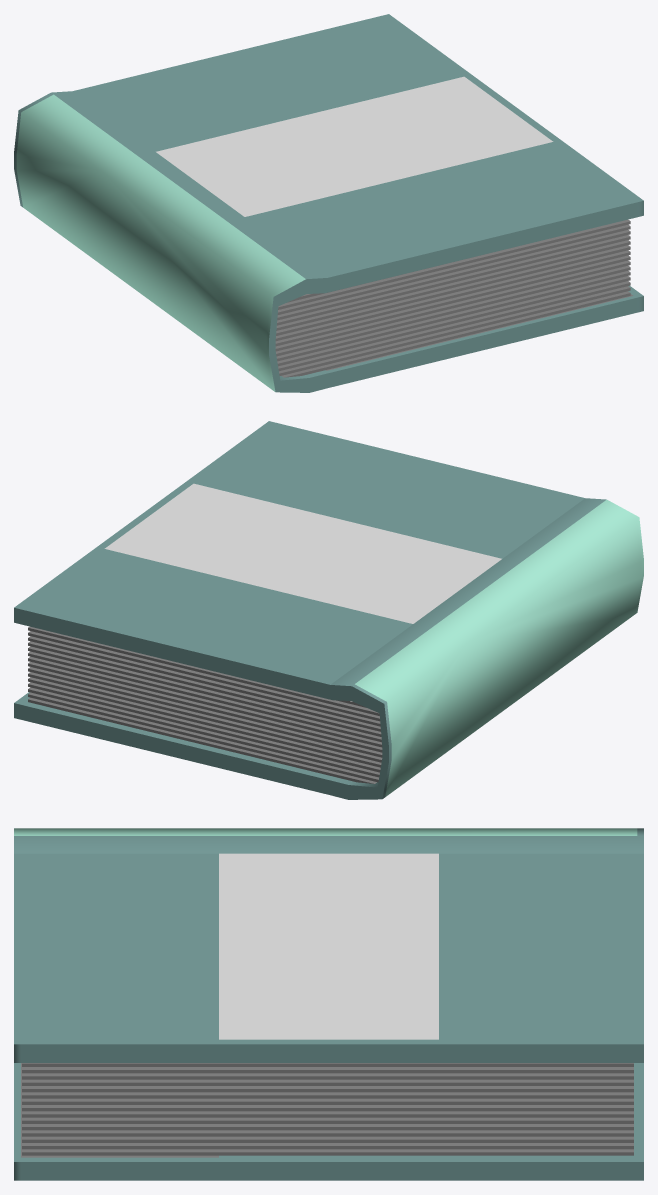
Rendered from Book.FBX.
3 renders of one model, top to bottom at view 1: azimuth 30°, elevation 25°; view 2: azimuth 150°, elevation 25°; view 3: azimuth 270°, elevation 25°, orthographic. The views are drawn at different scales.
Parts seen in each view (by area): view 1: book close_paper.016; view 2: book close_paper.016; view 3: book close_paper.016.
Part boxes in pixels (<box>): book close_paper.016: <box>14,14,643,392</box>; book close_paper.016: <box>14,421,643,799</box>; book close_paper.016: <box>14,828,643,1180</box>.
Size of the model in its own units: 394 by 115 by 464.
